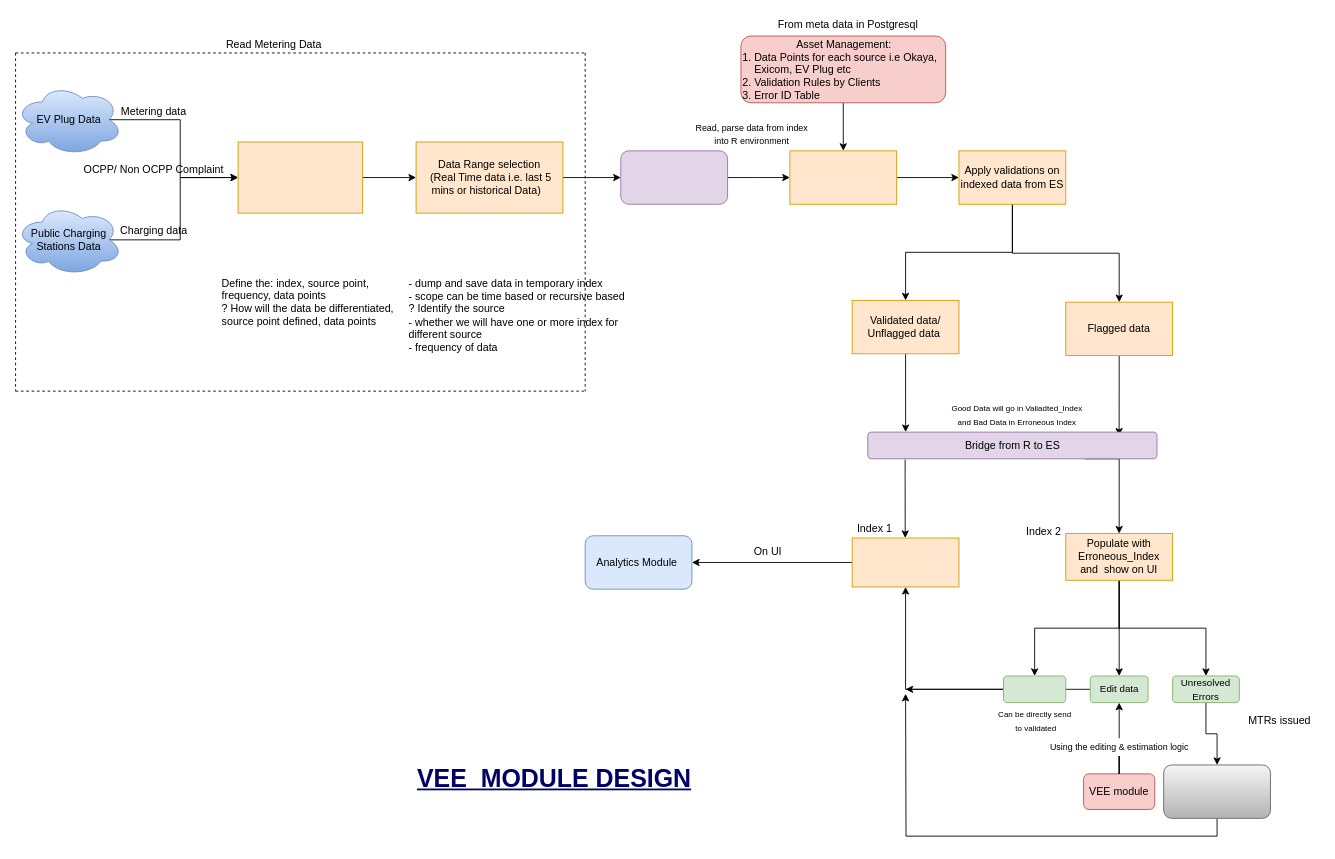
Image size: 1335x859. Some labels were removed from this diagram. Each missing label, with the box of its shape:
Data bridge from ES to R: (620, 150, 728, 204)
Discard data: (1003, 675, 1066, 703)
Handled by respective Client (CPO/ Supervisor/ MSP etc): (1163, 764, 1270, 818)
Meter Data in an Index of Elastic Search: (237, 141, 363, 213)
Populate with Validated_Index: (851, 537, 959, 587)
Preparing final dataset for validations: (789, 150, 897, 204)
